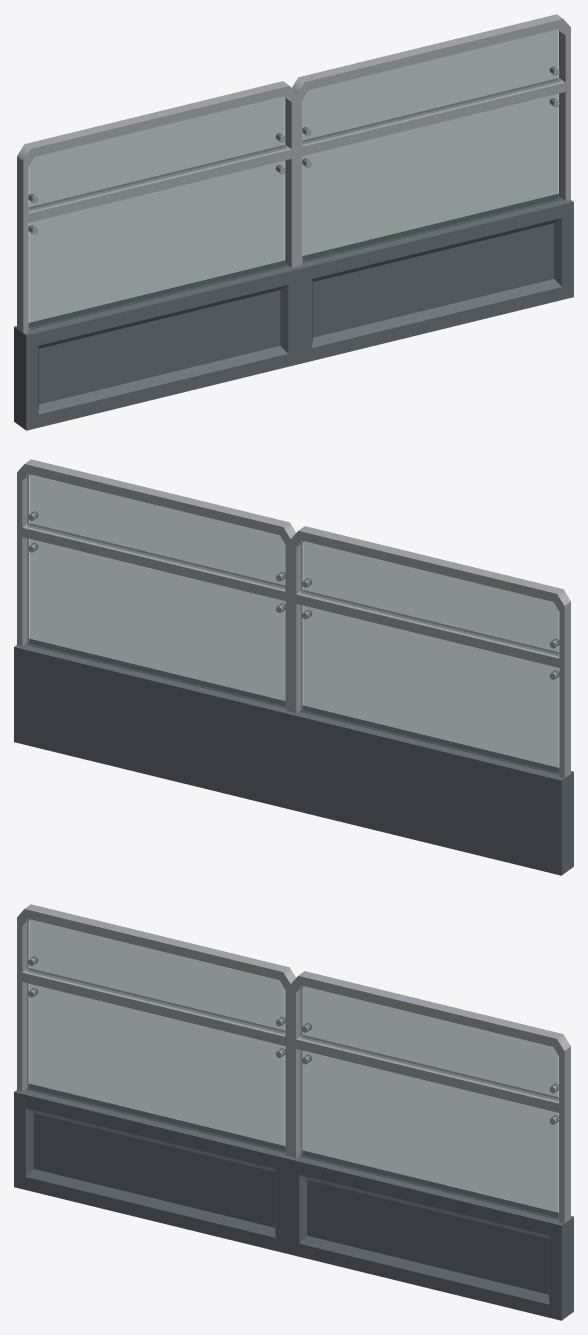
The model's file is Railing.FBX.
The picture shows the model from 3 angles, top to bottom: view 1: azimuth 30°, elevation 25°; view 2: azimuth 150°, elevation 25°; view 3: azimuth 330°, elevation 25°; orthographic projection.
Visible parts, largest first — view 1: Railing; view 2: Railing; view 3: Railing.
Boxes of the visible parts, box(x1,y1,x2,y2) form: Railing: box(14, 14, 573, 430); Railing: box(14, 459, 573, 875); Railing: box(14, 904, 573, 1320).
Size of the model in its own units: 226 by 109 by 8.87.
